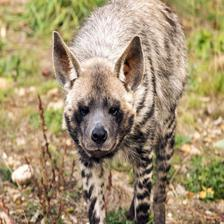hyena: (33, 0, 198, 224)
